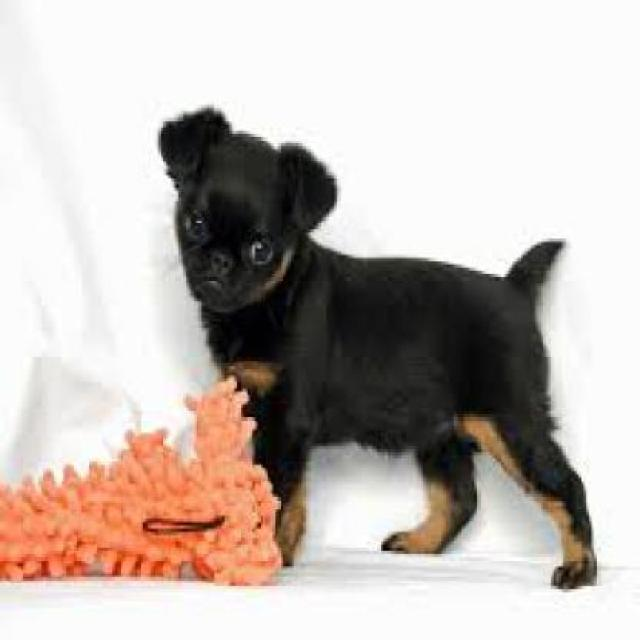animals: (101, 98, 627, 598)
